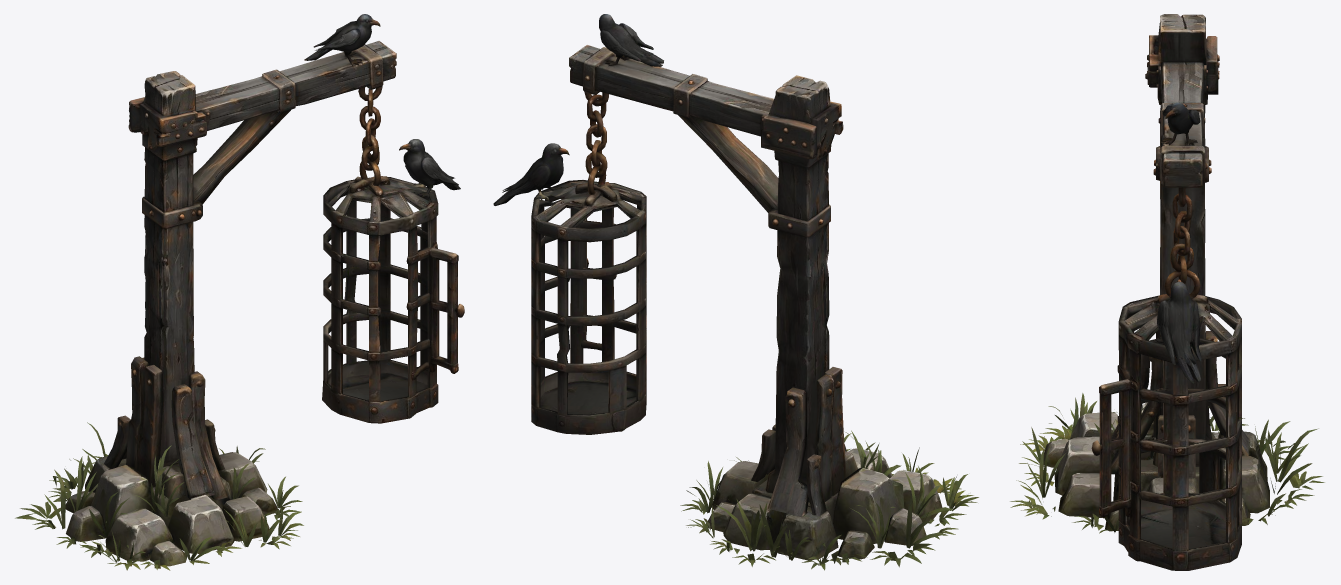
The model's file is act1-a16-2-gibbet.glb.
The picture shows the model from 3 angles, left to right: view 1: azimuth 30°, elevation 25°; view 2: azimuth 150°, elevation 25°; view 3: azimuth 270°, elevation 25°; orthographic projection. The views are drawn at different scales.
Parts seen in each view (by area): view 1: act1-a16-2-gibbet; view 2: act1-a16-2-gibbet; view 3: act1-a16-2-gibbet.
Part boxes in pixels (x1=…): act1-a16-2-gibbet: x1=15, y1=14, x2=464, y2=570; act1-a16-2-gibbet: x1=493, y1=14, x2=978, y2=570; act1-a16-2-gibbet: x1=1010, y1=14, x2=1324, y2=570.
Bounding box in the file's own units: 4.69 × 4.6 × 2.69.
Materials: 1 (1 with a texture image).
